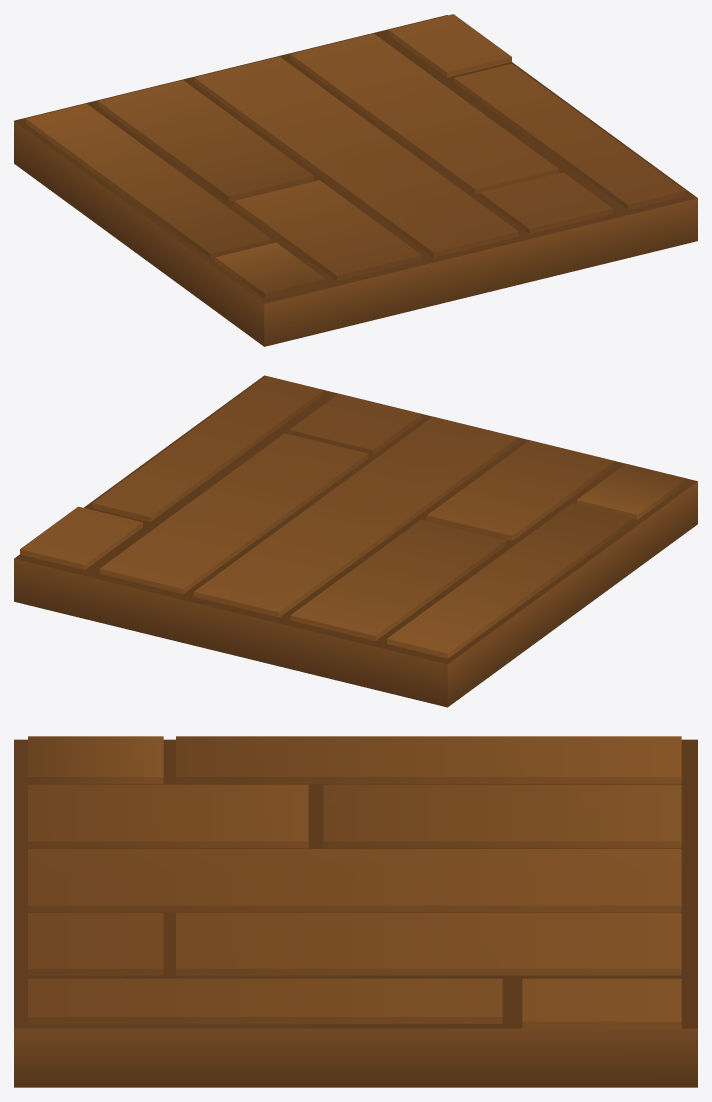
Rendered from floor_wood.glb.
3 renders of one model, top to bottom at view 1: azimuth 30°, elevation 25°; view 2: azimuth 150°, elevation 25°; view 3: azimuth 270°, elevation 25°, orthographic. The views are drawn at different scales.
Visible parts, largest first — view 1: wood_tile; view 2: wood_tile; view 3: wood_tile.
Boxes of the visible parts, x1=… form: wood_tile: x1=14, y1=14, x2=697, y2=346; wood_tile: x1=14, y1=375, x2=697, y2=707; wood_tile: x1=14, y1=736, x2=697, y2=1087.
Bounding box in the file's own units: 16 × 1.7 × 16.
Materials: 1 (1 with a texture image).
